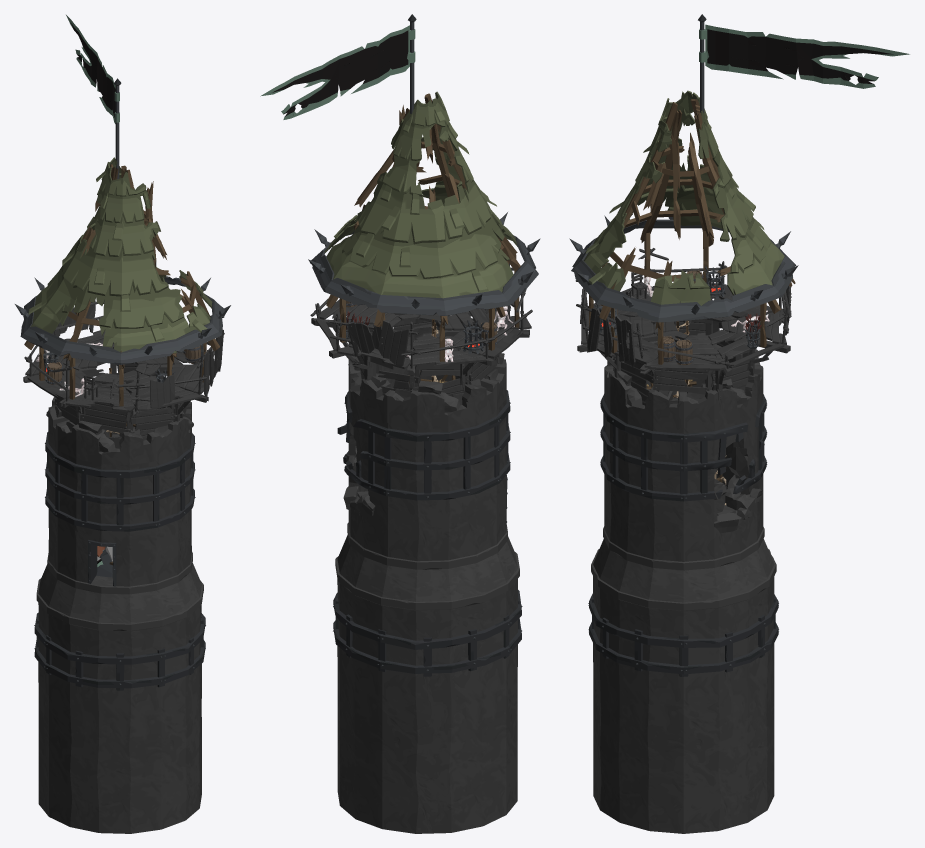
File: isle_tower_ruin.gltf
3 views of the same model, side by side, from view 1: azimuth 30°, elevation 25°; view 2: azimuth 150°, elevation 25°; view 3: azimuth 270°, elevation 25° (orthographic). The views are drawn at different scales.
Visible parts, largest first — view 1: isle_tower_ruin; view 2: isle_tower_ruin; view 3: isle_tower_ruin.
Boxes of the visible parts, x1,y1,x2,y2 form: isle_tower_ruin: (15,15,230,833); isle_tower_ruin: (260,14,540,833); isle_tower_ruin: (569,14,909,833).
Bounding box in the file's own units: 9.71 × 35.22 × 13.91.
Materials: 2 (2 with a texture image).
